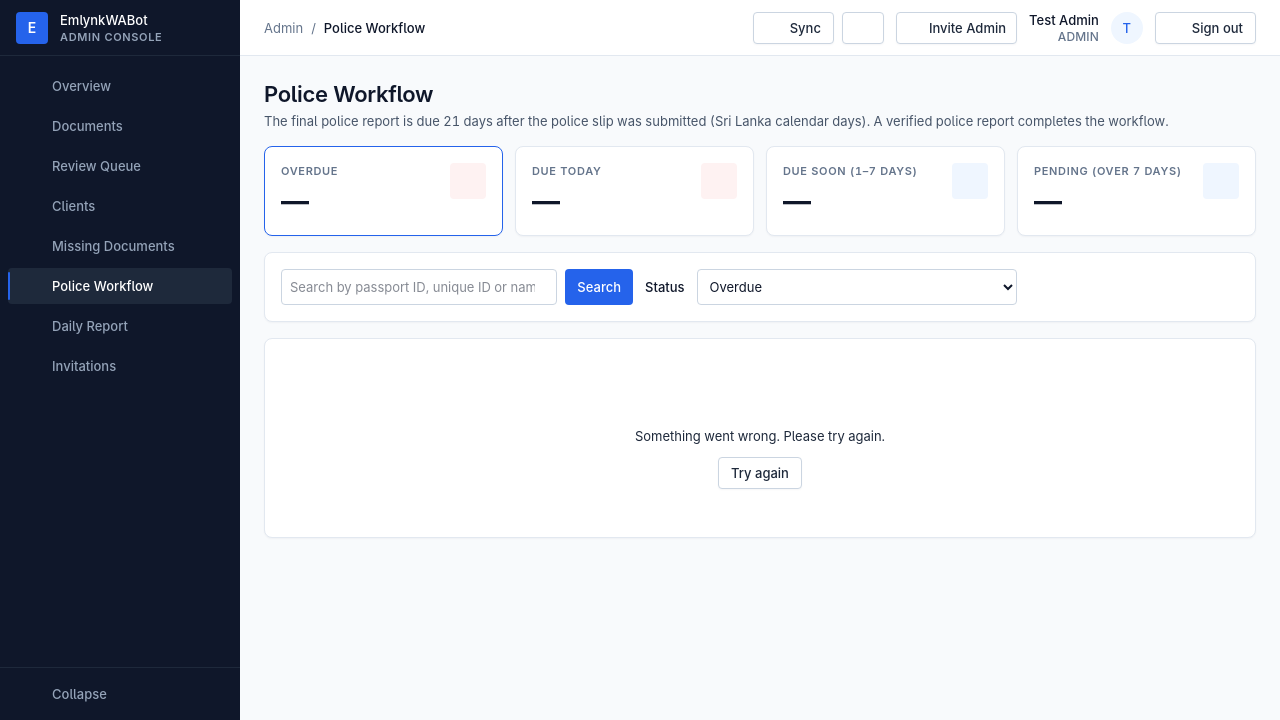
Test: Police Workflow page › loading, error with retry, empty filtered view
Click the button "Try again": (760, 473) x1=718 y1=457 x2=802 y2=489
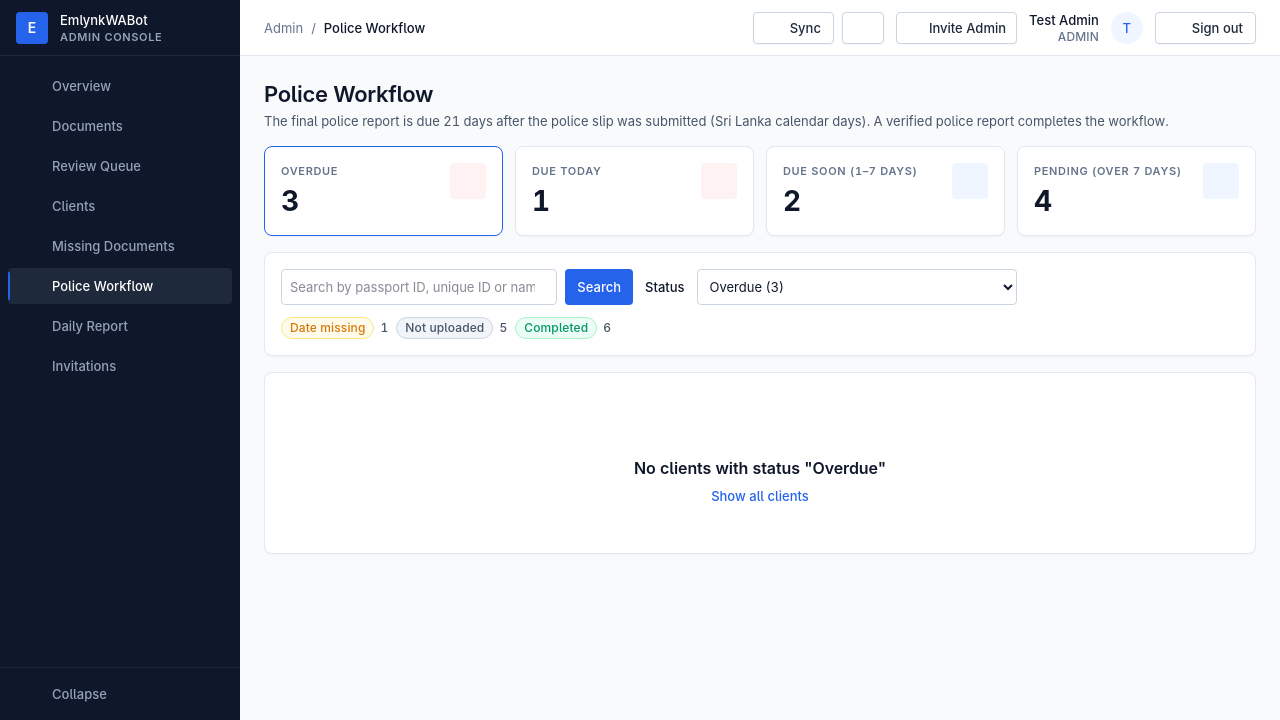
Expected: the text "No clients with status \"Overdue\"" is shown, x1=634 y1=457 x2=886 y2=479
Click the button "Show all clients": (760, 496) x1=711 y1=487 x2=809 y2=505
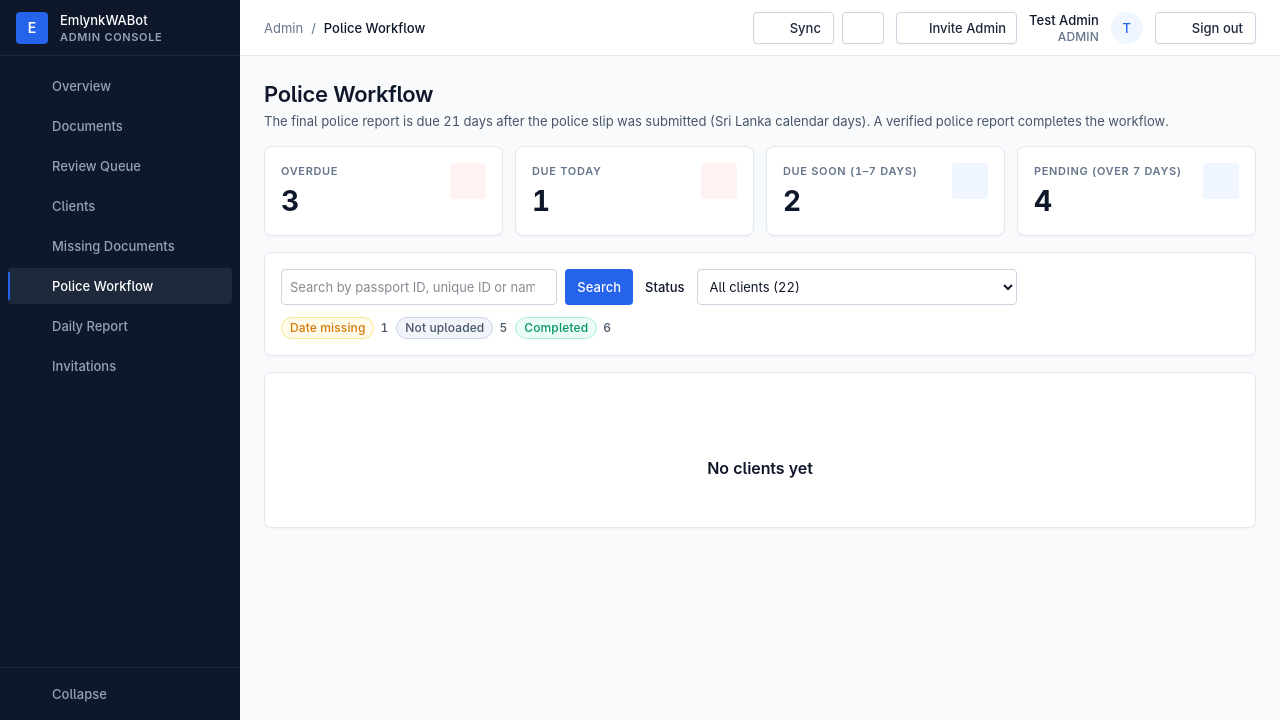
Expected: the text "No clients yet" is shown, x1=707 y1=457 x2=813 y2=479
